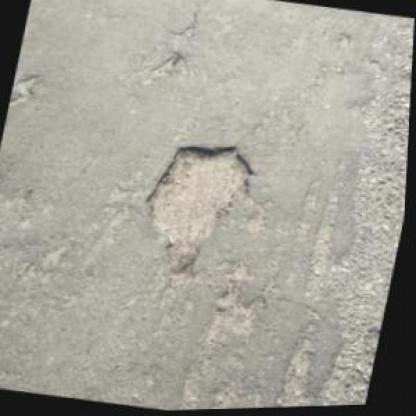pothole: (131, 130, 266, 283), (150, 51, 183, 82)
